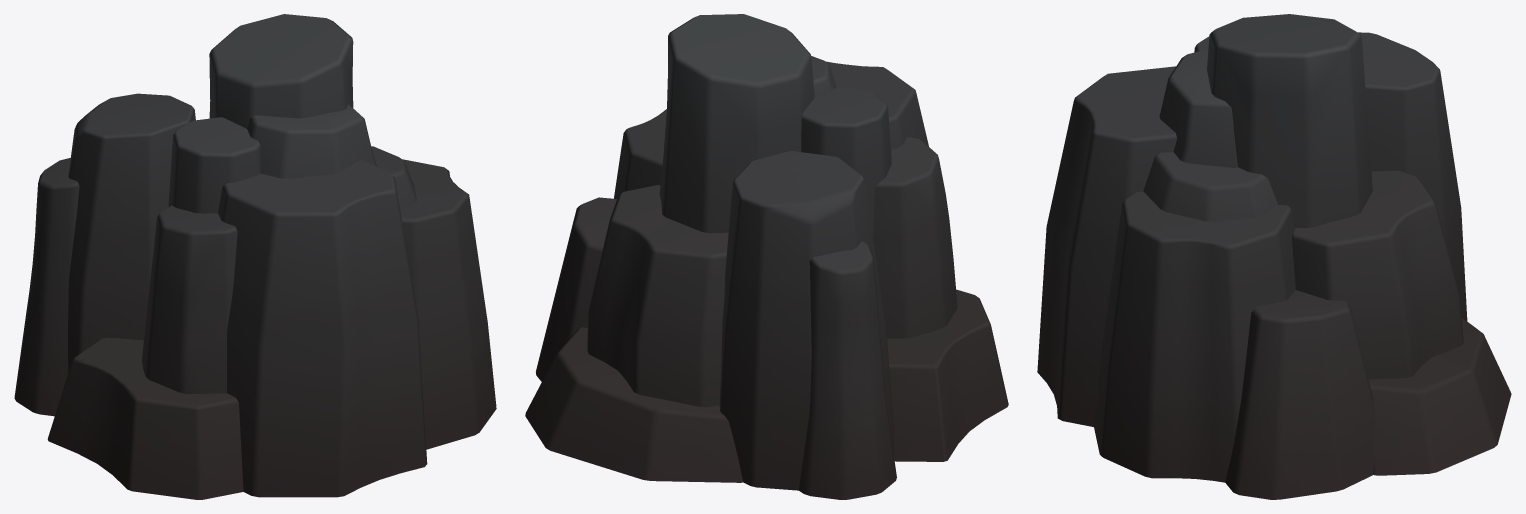
The model's file is inferno-rock-big-003.glb.
The picture shows the model from 3 angles, left to right: view 1: azimuth 30°, elevation 25°; view 2: azimuth 150°, elevation 25°; view 3: azimuth 270°, elevation 25°; orthographic projection. The views are drawn at different scales.
Parts seen in each view (by area): view 1: RockBig_003; view 2: RockBig_003; view 3: RockBig_003.
Part boxes in pixels (left/top/right/bottom): RockBig_003: left=14, top=14, right=496, bottom=499; RockBig_003: left=525, top=14, right=1008, bottom=499; RockBig_003: left=1037, top=14, right=1511, bottom=499.
Bounding box in the file's own units: 30.84 × 25.46 × 29.09.
Materials: 1 (1 with a texture image).
